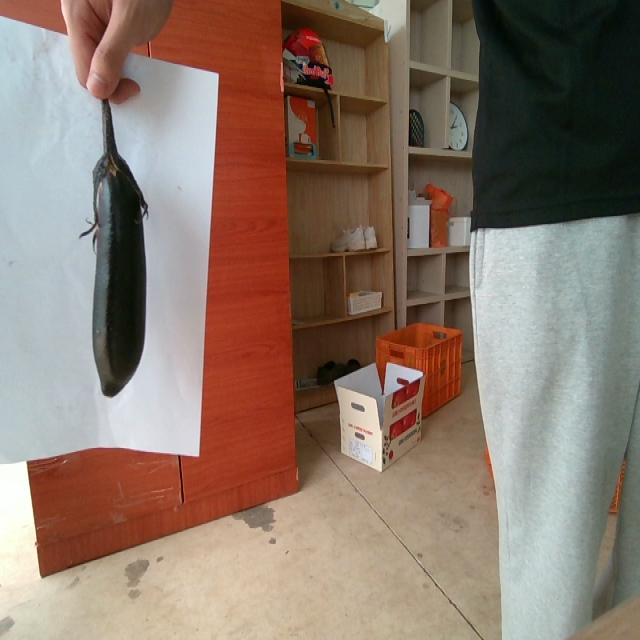Egg plant: (80, 100, 147, 396)
